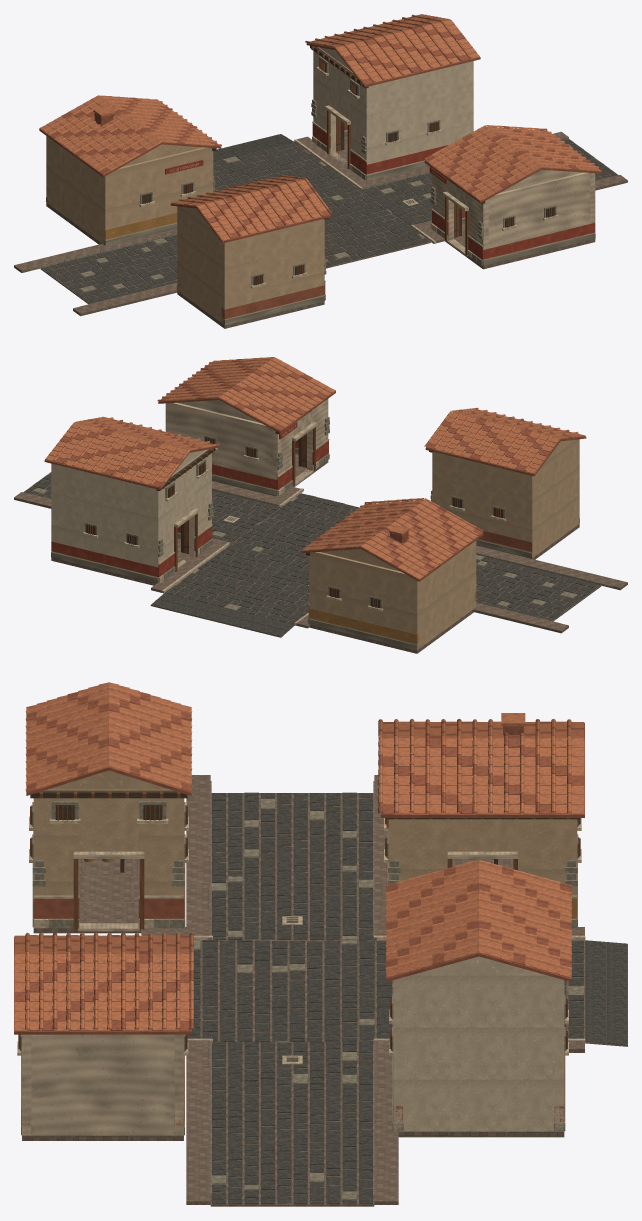
File: roman_north_junction.glb
The picture shows the model from 3 angles, top to bottom: view 1: azimuth 30°, elevation 25°; view 2: azimuth 150°, elevation 25°; view 3: azimuth 270°, elevation 25°; orthographic projection. The views are drawn at different scales.
Parts seen in each view (by area): view 1: Kreuzung_Pflaster_und_Gehwege, Lanificium, Figlina, TabernaSeptentrionalis, Apotheca; view 2: Kreuzung_Pflaster_und_Gehwege, Lanificium, Figlina, Apotheca, TabernaSeptentrionalis; view 3: Kreuzung_Pflaster_und_Gehwege, Lanificium, Apotheca, TabernaSeptentrionalis, Figlina.
Part boxes in pixels (<box>): Kreuzung_Pflaster_und_Gehwege: <box>14,131,627,316</box>; Lanificium: <box>305,14,480,180</box>; Figlina: <box>39,95,221,245</box>; TabernaSeptentrionalis: <box>424,125,602,269</box>; Apotheca: <box>170,174,332,328</box>; Kreuzung_Pflaster_und_Gehwege: <box>14,472,627,637</box>; Lanificium: <box>44,416,219,585</box>; Figlina: <box>301,498,484,653</box>; Apotheca: <box>424,407,586,559</box>; TabernaSeptentrionalis: <box>157,357,335,496</box>; Kreuzung_Pflaster_und_Gehwege: <box>141,775,627,1206</box>; Lanificium: <box>385,860,571,1137</box>; Apotheca: <box>25,682,192,933</box>; TabernaSeptentrionalis: <box>14,932,193,1140</box>; Figlina: <box>378,713,584,928</box>.
Bounding box in the file's own units: 28.16 × 5.94 × 17.13.
1 material, 1 textured.
